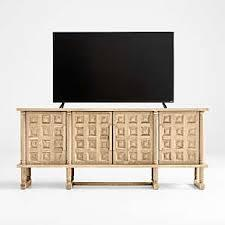TV: (50, 29, 177, 109)
console: (14, 106, 207, 191)
